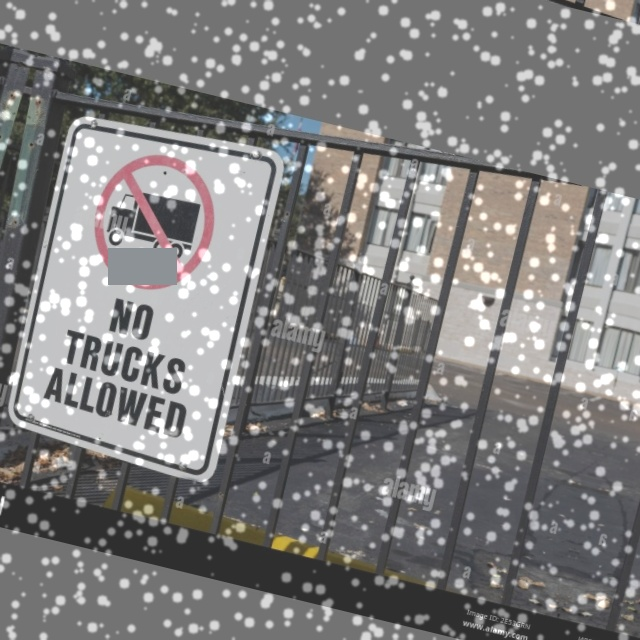Truck_Prohibited: (70, 130, 236, 314)
